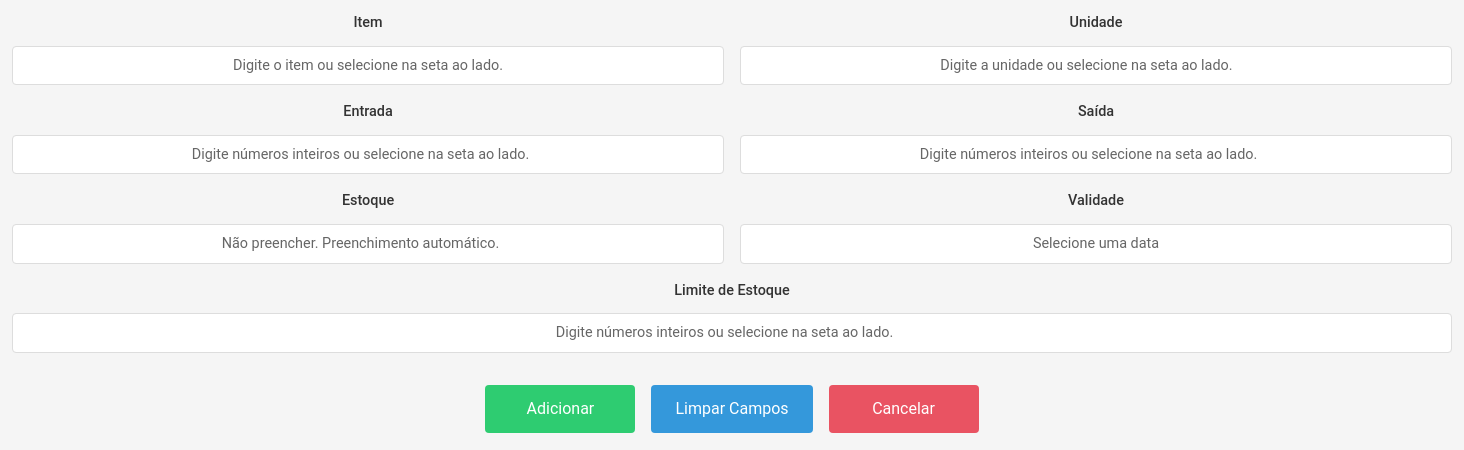
Test case: AddItemForm › should calculate totalEstoque correctly
This screenshot has width=1464, height=450.
In the number field labelled "Entrada": (368,155) [12,135,724,174], type "10"
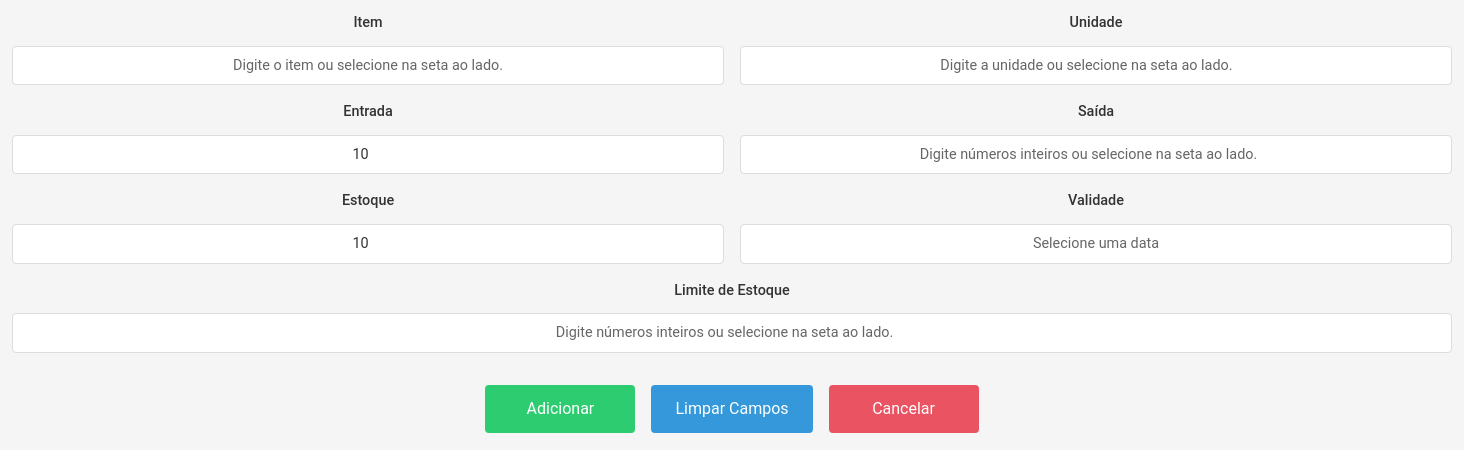
In the number field labelled "Saída": (1096,155) [740,135,1452,174], type "3"
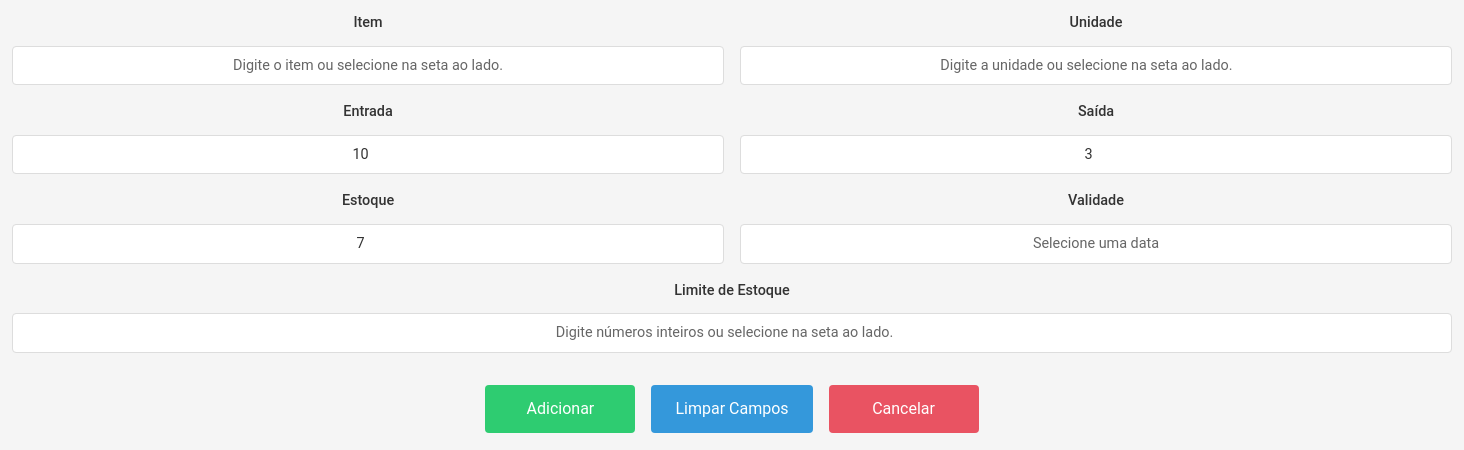
Result: the number field labelled "Estoque" holds "7" at [12,224,724,264]
